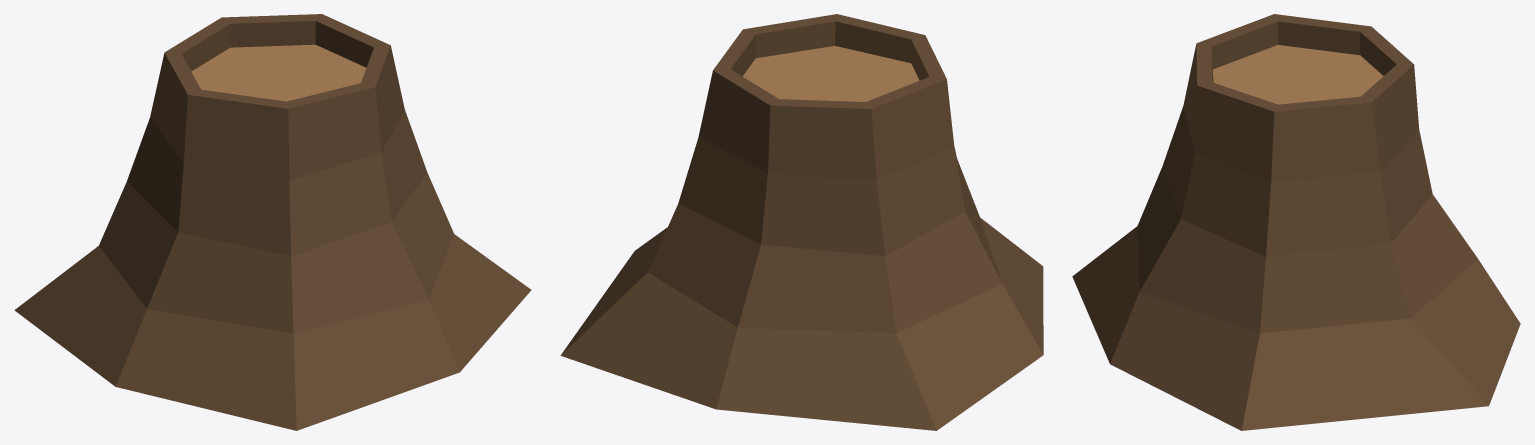
The model's file is stump_1.glb.
3 renders of one model, left to right at view 1: azimuth 30°, elevation 25°; view 2: azimuth 150°, elevation 25°; view 3: azimuth 270°, elevation 25°, orthographic.
Visible parts, largest first — view 1: Cylinder; view 2: Cylinder; view 3: Cylinder.
Part boxes in pixels (x1=…): Cylinder: x1=14, y1=14, x2=531, y2=430; Cylinder: x1=560, y1=14, x2=1043, y2=430; Cylinder: x1=1072, y1=14, x2=1520, y2=430.
Size of the model in its own units: 0.932 by 0.569 by 0.8915.
